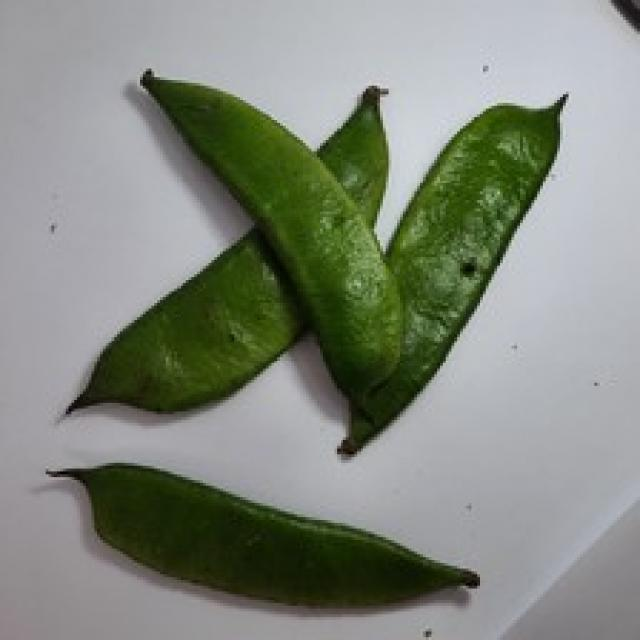Bean: (137, 66, 406, 411), (334, 89, 566, 454), (43, 460, 480, 609), (60, 223, 306, 417)
